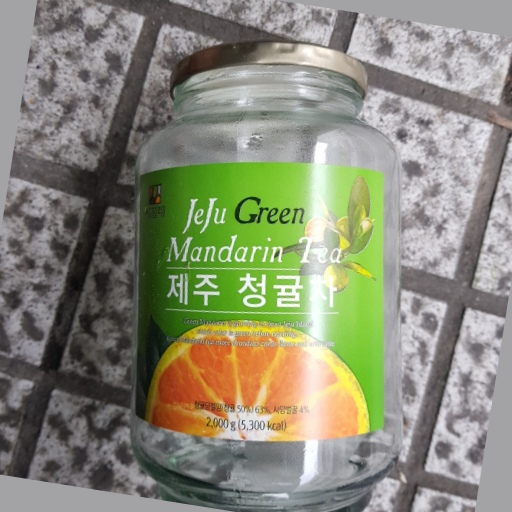Glass_5: (125, 44, 402, 508)
